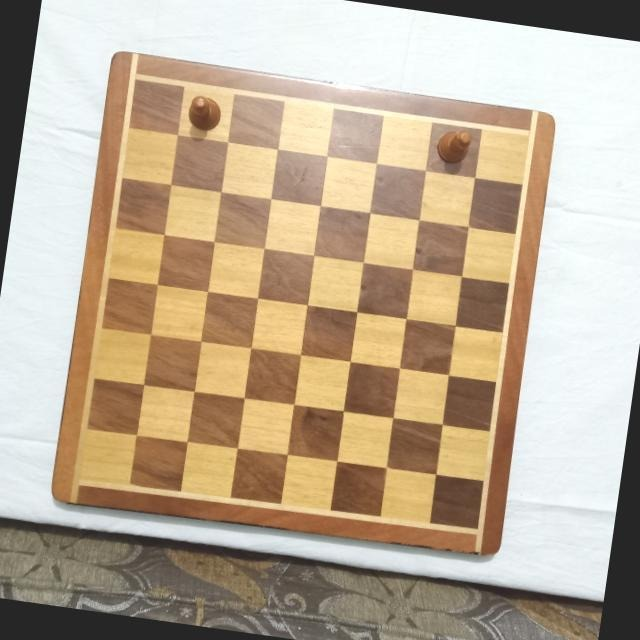white-pawn: (433, 124, 474, 168), (184, 91, 224, 135)
